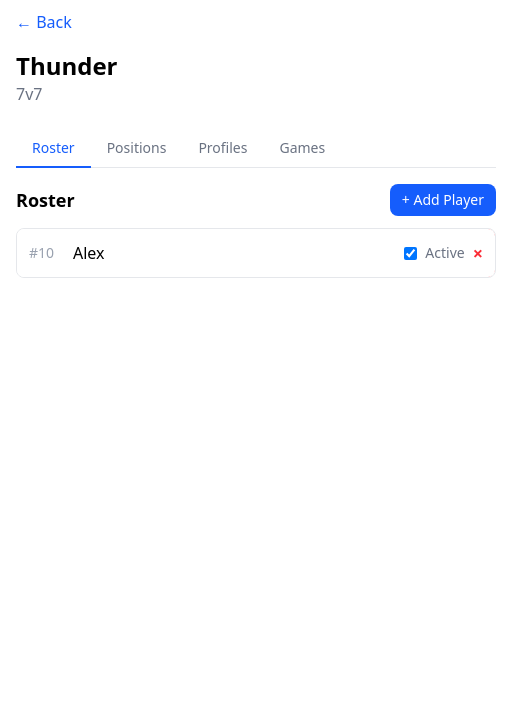
Test: TeamDetail › roster tab delete › deletes a player and shows undo toast
Expected: the text "Alex" is shown, [73, 241, 104, 265]
Click the button named "delete alex".
click(478, 253)  # box [473, 244, 483, 262]
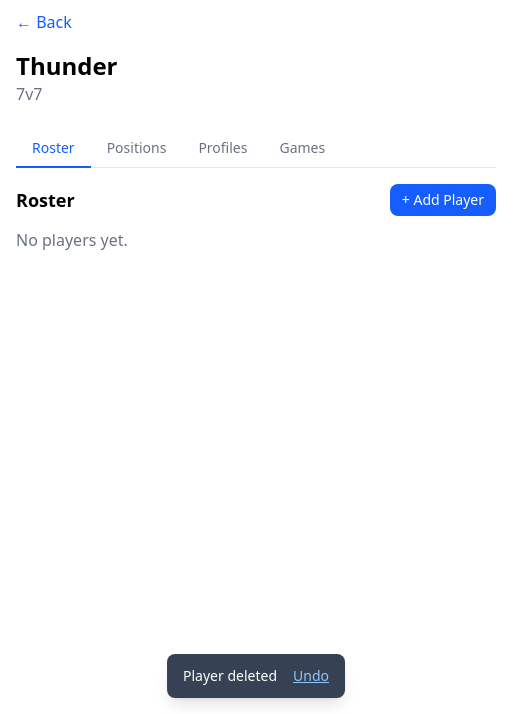
Now the text "Player deleted" is shown, box [183, 666, 277, 686]
Now the button "Undo" is shown, box [293, 666, 329, 686]
